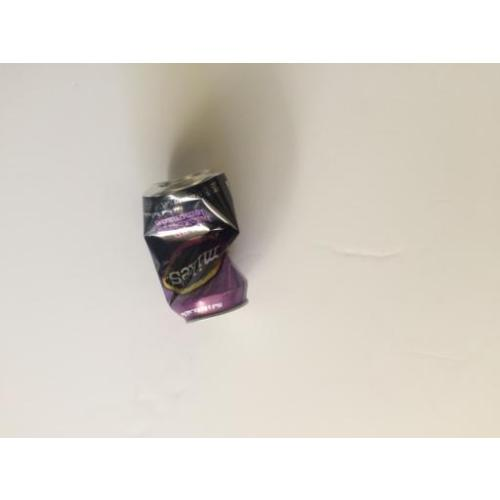metal: (142, 174, 248, 321)
